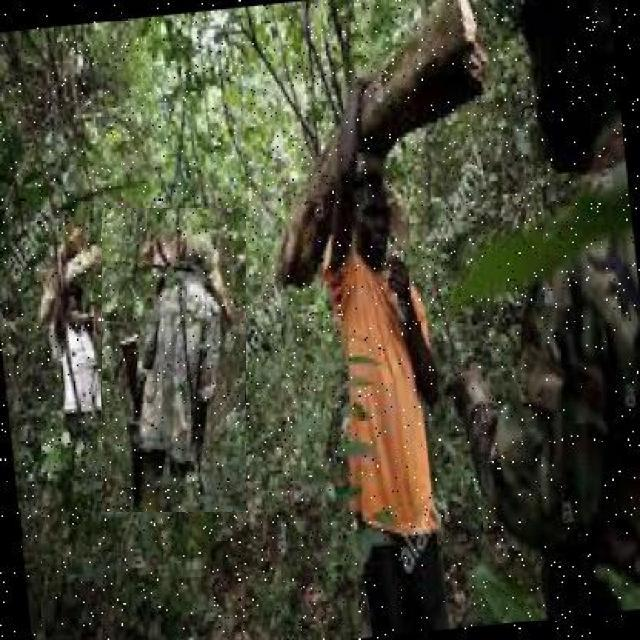poacher: (294, 148, 470, 590), (102, 208, 246, 512), (29, 223, 112, 488)
